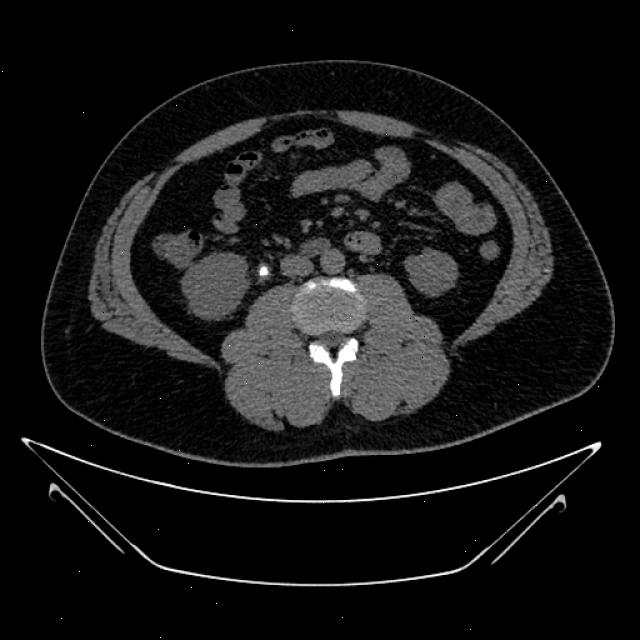kidneystone: (258, 266, 270, 277)
